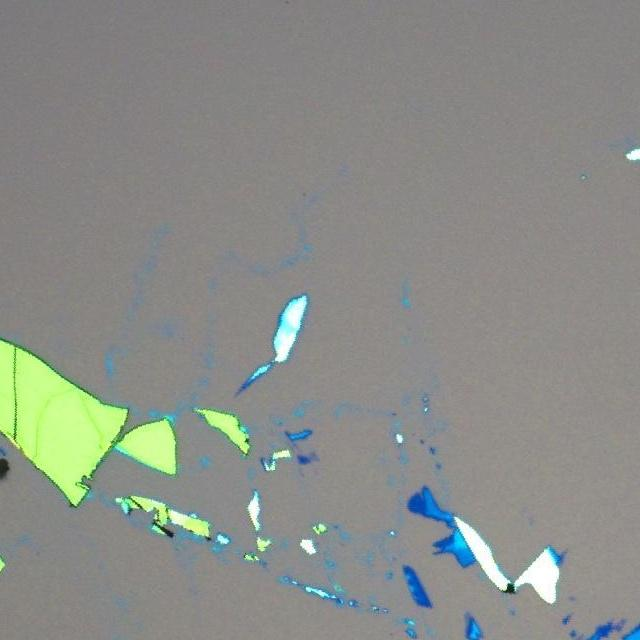monolayer-eWW4: (464, 612, 470, 626)
